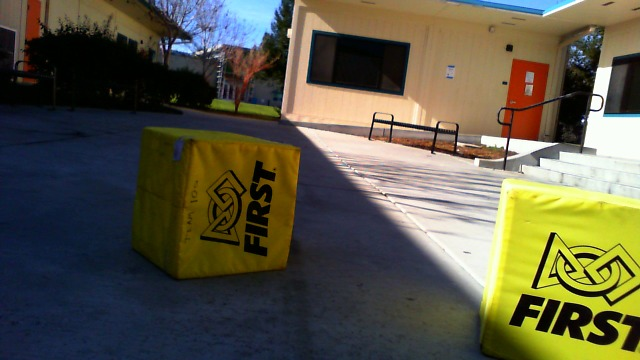cube: (477, 176, 639, 360), (129, 122, 311, 280)
